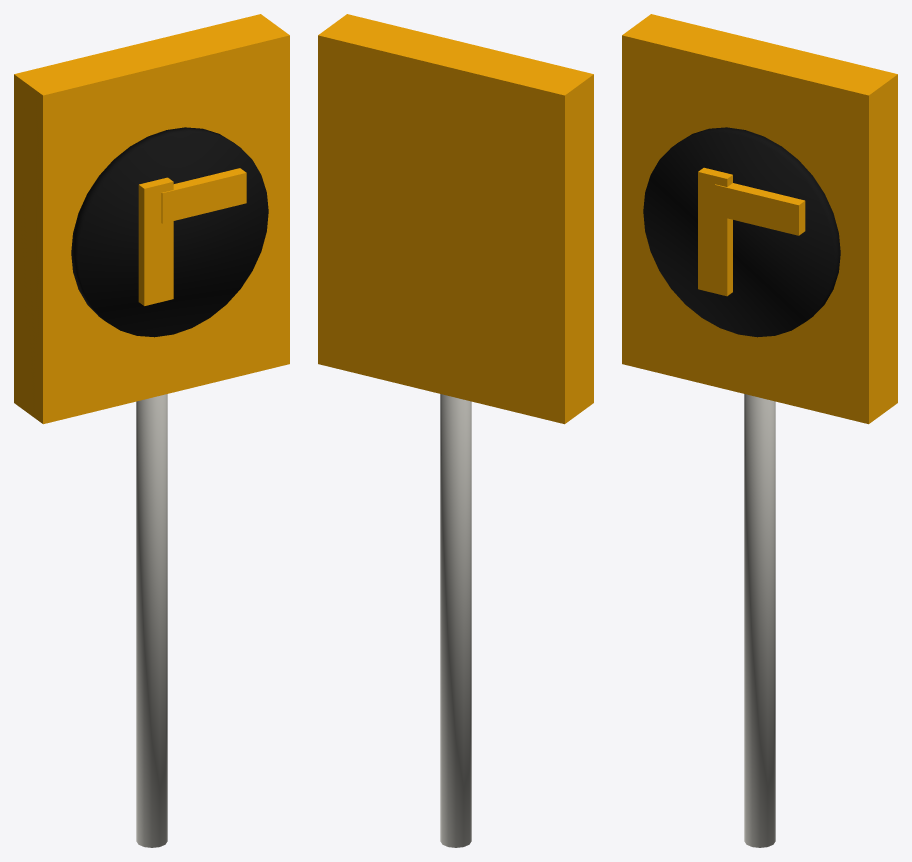
The model's file is prop_parking_sign.glb.
3 views of the same model, side by side, from view 1: azimuth 30°, elevation 25°; view 2: azimuth 150°, elevation 25°; view 3: azimuth 330°, elevation 25° (orthographic).
Visible parts, largest first — view 1: parking sign yellow board, parking black circle, parking sign pole, parking p vertical, parking p top; view 2: parking sign yellow board, parking sign pole; view 3: parking sign yellow board, parking black circle, parking sign pole, parking p vertical, parking p top.
Part boxes in pixels (x1,y1,x2,y2): parking sign yellow board: [14, 14, 289, 424]; parking black circle: [71, 127, 268, 337]; parking sign pole: [136, 394, 167, 847]; parking p vertical: [138, 177, 173, 305]; parking p top: [161, 168, 246, 223]; parking sign yellow board: [318, 14, 593, 424]; parking sign pole: [440, 394, 471, 847]; parking sign yellow board: [622, 14, 897, 424]; parking black circle: [643, 127, 840, 337]; parking sign pole: [744, 394, 775, 847]; parking p vertical: [698, 167, 732, 296]; parking p top: [714, 183, 805, 235].
Bounding box in the file's own units: 0.22 × 0.67 × 0.0655.
